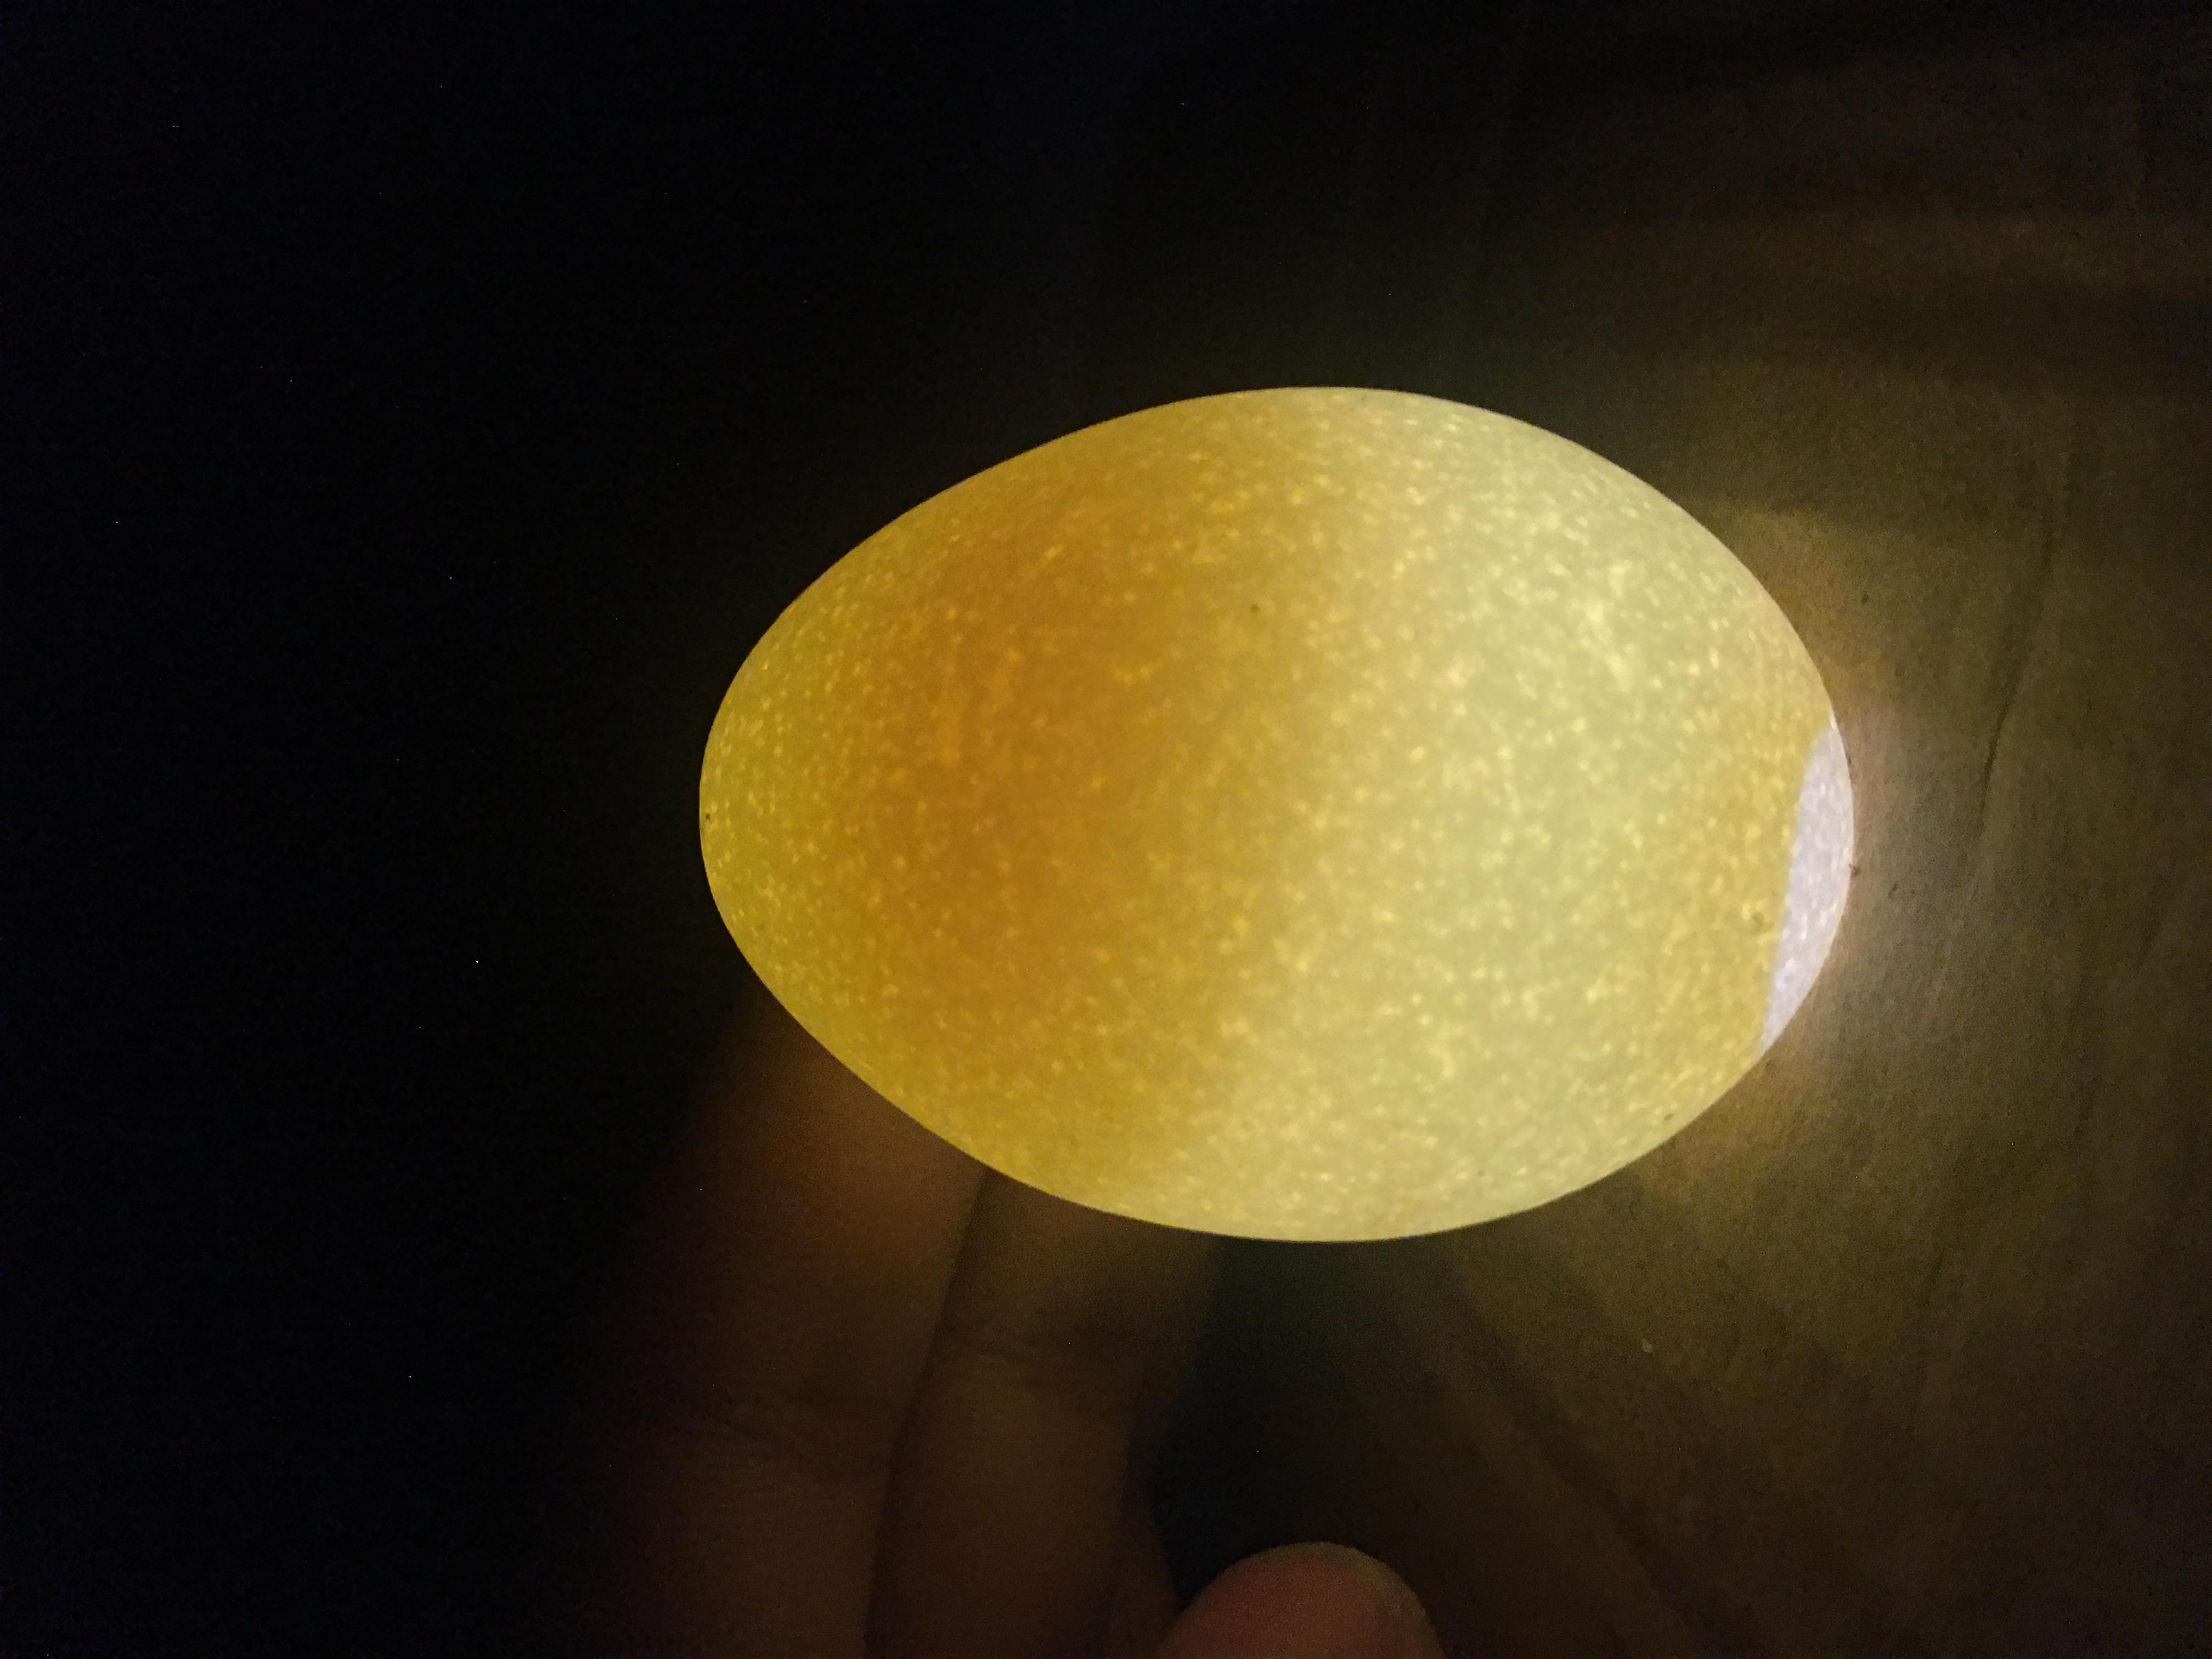A - Good: (516, 500, 1730, 1405)
